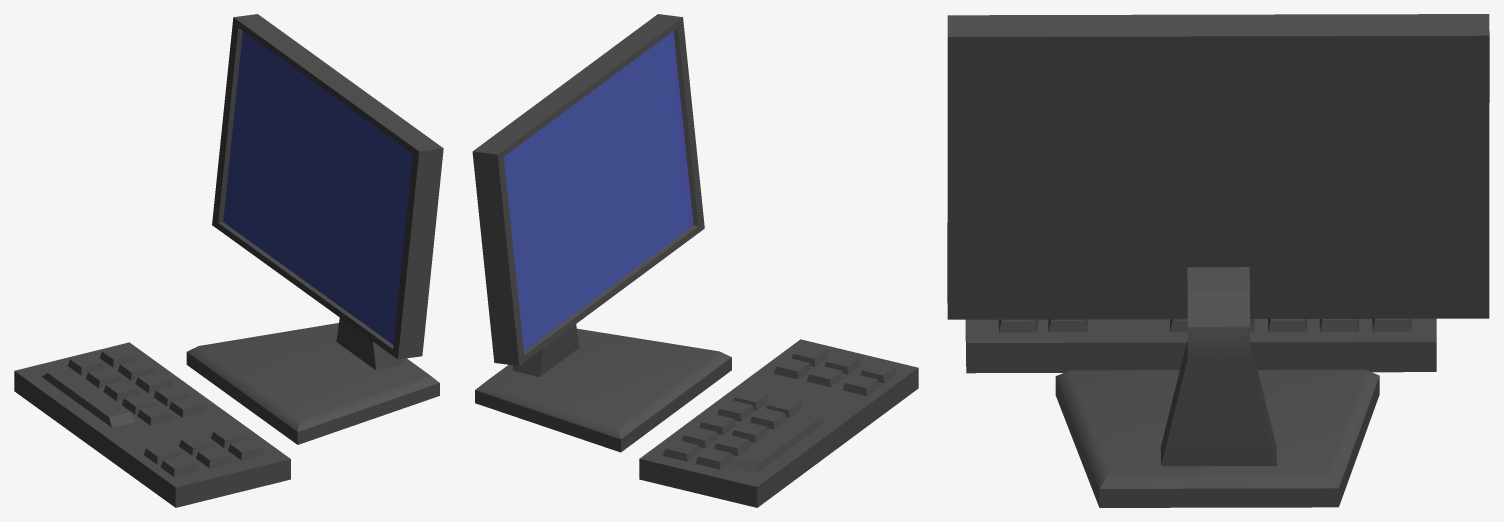
The model's file is SM_Computer.fbx.
The picture shows the model from 3 angles, left to right: view 1: azimuth 30°, elevation 25°; view 2: azimuth 150°, elevation 25°; view 3: azimuth 270°, elevation 25°; orthographic projection. The views are drawn at different scales.
Visible parts, largest first — view 1: SM_Computer; view 2: SM_Computer; view 3: SM_Computer.
Boxes of the visible parts, bbox=[...] form: SM_Computer: bbox=[14, 14, 443, 507]; SM_Computer: bbox=[472, 14, 918, 507]; SM_Computer: bbox=[947, 14, 1489, 507].
Bounding box in the file's own units: 79.96 × 74.32 × 81.97.
